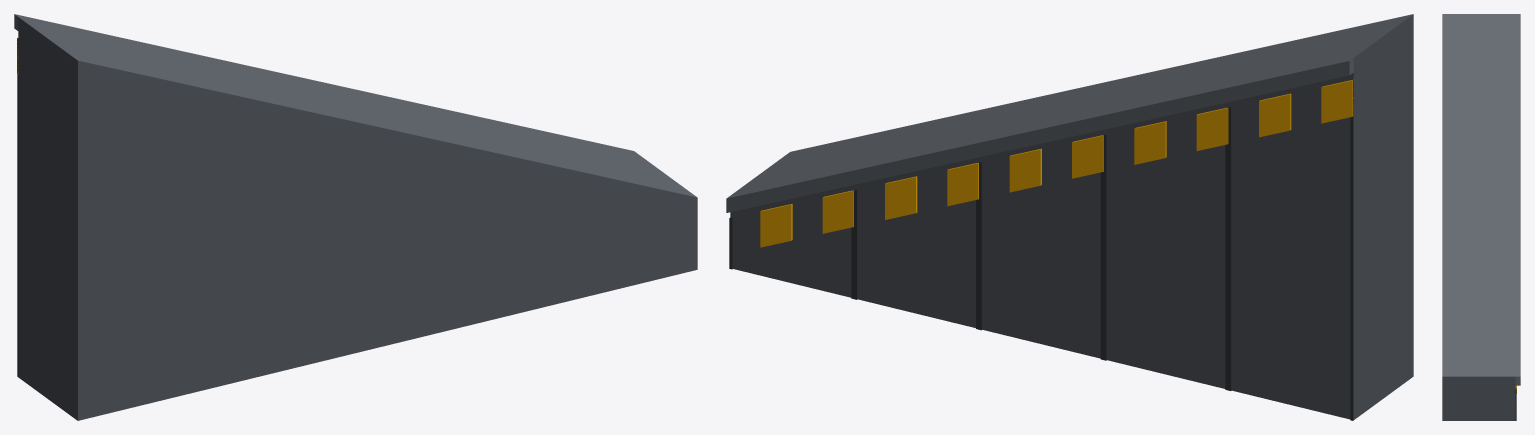
3 renders of one model, left to right at view 1: azimuth 30°, elevation 25°; view 2: azimuth 150°, elevation 25°; view 3: azimuth 270°, elevation 25°, orthographic. The views are drawn at different scales.
Parts seen in each view (by area): view 1: b2wf; view 2: b2wf; view 3: b2wf.
Boxes of the visible parts, left/top/right/bottom form: b2wf: left=14, top=14, right=697, bottom=420; b2wf: left=726, top=14, right=1413, bottom=420; b2wf: left=1442, top=14, right=1520, bottom=420.
Bounding box in the file's own units: 9 × 5 × 1.6.
